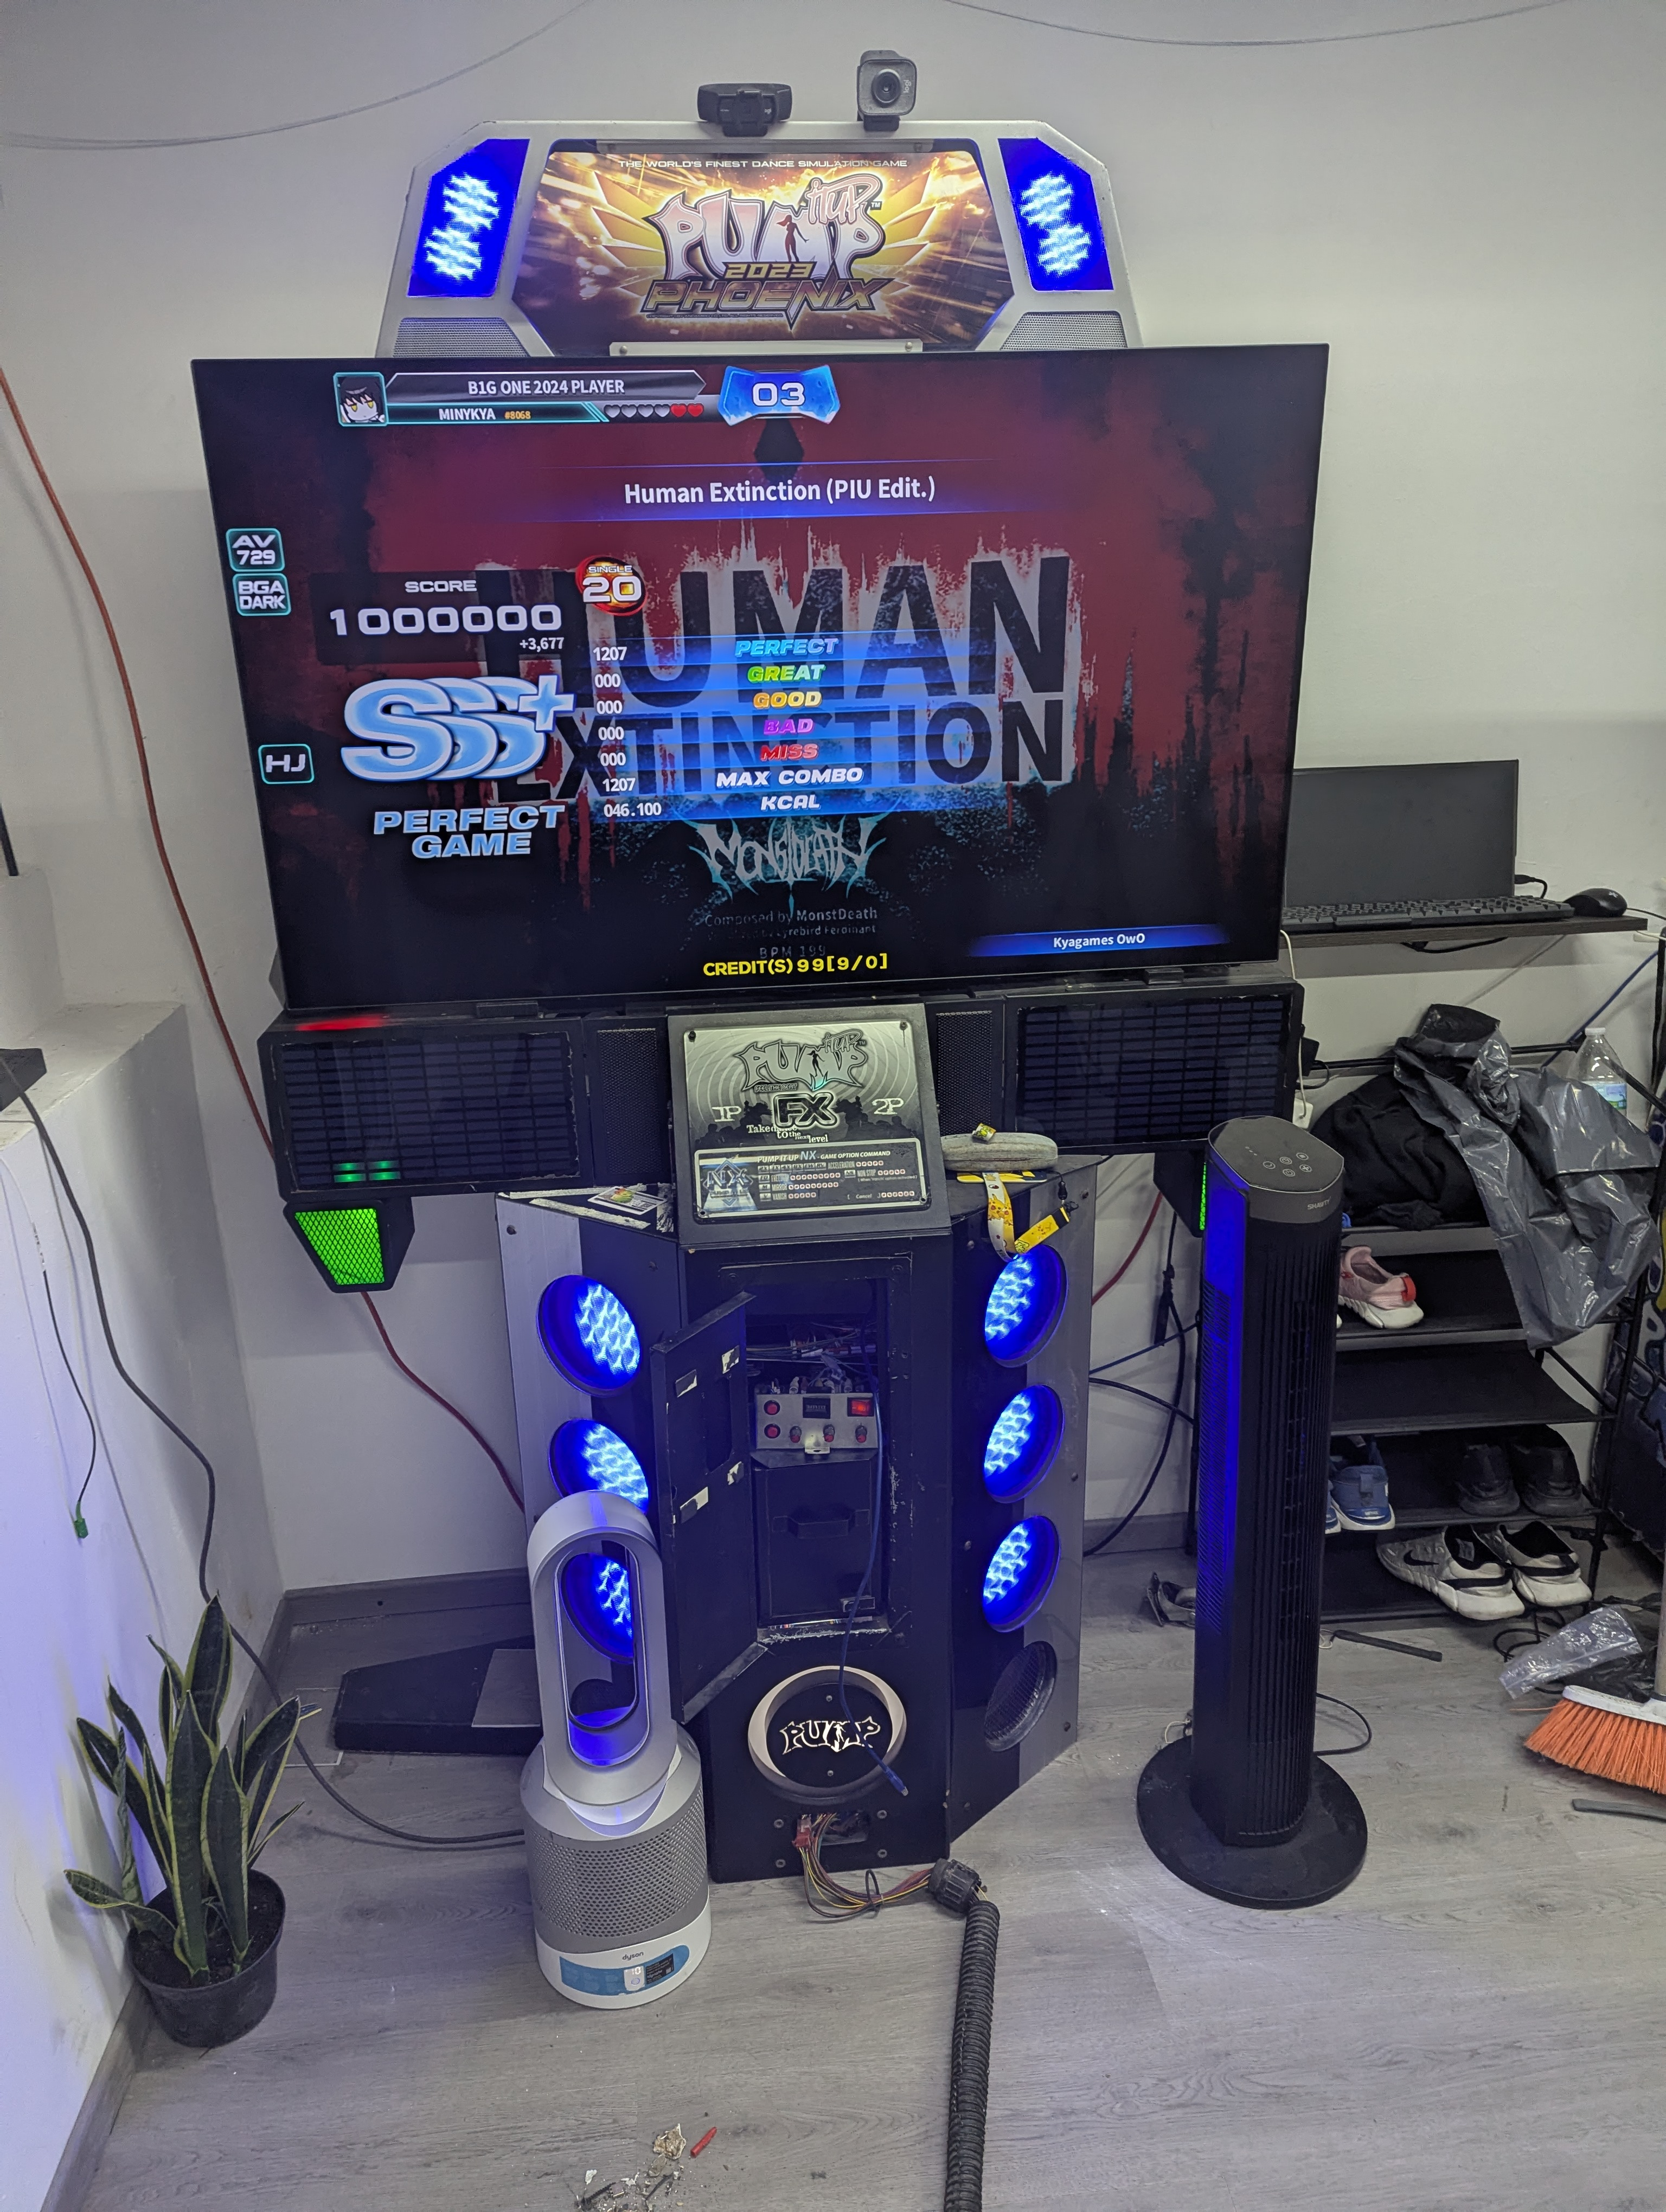difficulty: (576, 532, 690, 630)
fullscore: (212, 334, 1323, 1070)
rank: (322, 670, 604, 787)
score: (315, 568, 567, 642)
song_name: (613, 439, 1055, 523)
